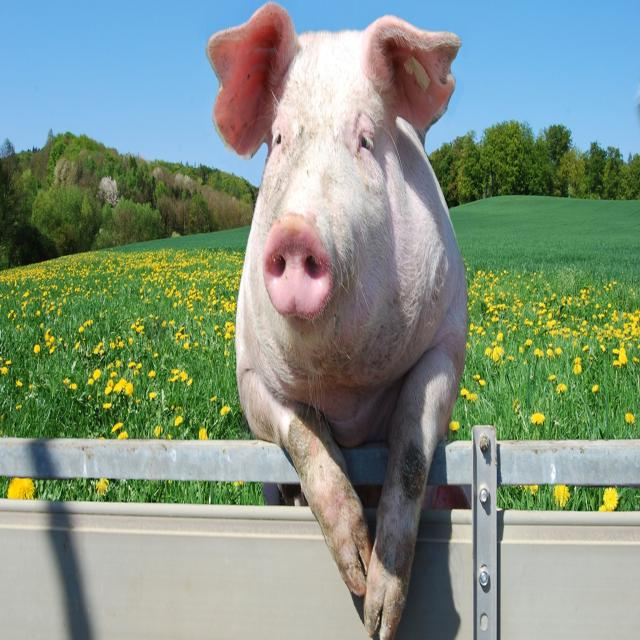Pig: (197, 0, 474, 639)
